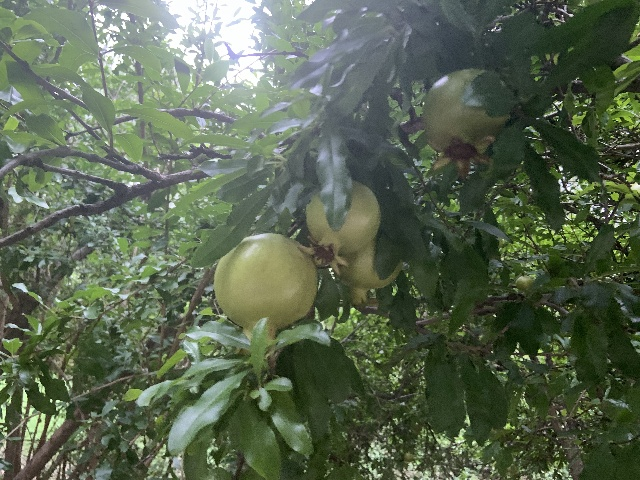mid-growth: (213, 232, 317, 349), (422, 67, 509, 178), (296, 181, 381, 275), (337, 235, 402, 305)
